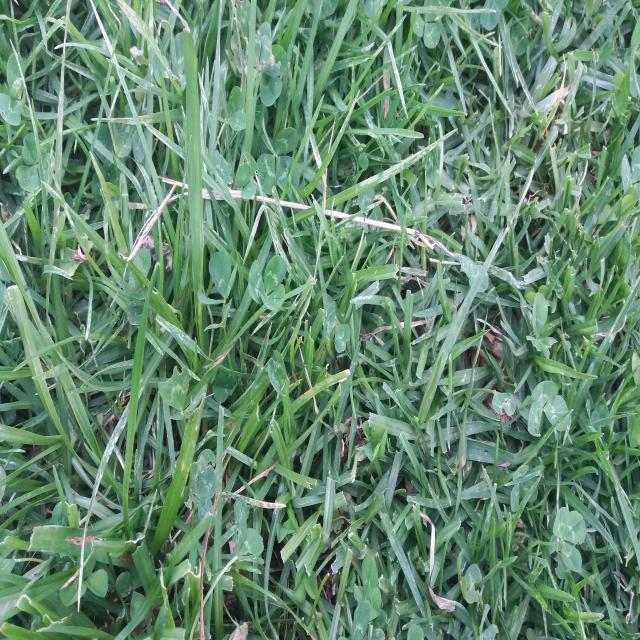Four Leaf Clover: (248, 255, 287, 310)
